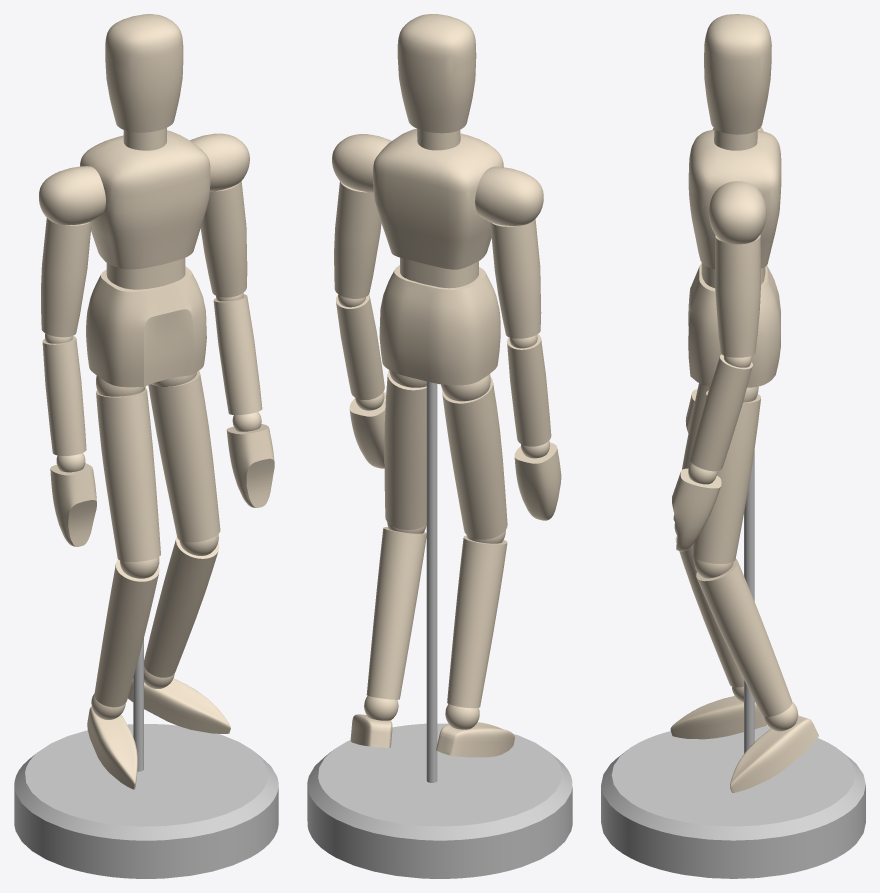
The model's file is 285_デッサン人形.glb.
The picture shows the model from 3 angles, left to right: view 1: azimuth 30°, elevation 25°; view 2: azimuth 150°, elevation 25°; view 3: azimuth 270°, elevation 25°; orthographic projection.
Visible parts, largest first — view 1: body; view 2: body; view 3: body.
Boxes of the visible parts, <box> form: body: <box>14,14,278,878</box>; body: <box>307,14,572,878</box>; body: <box>601,14,865,878</box>.
Size of the model in its own units: 0.05 by 0.1673 by 0.05.
